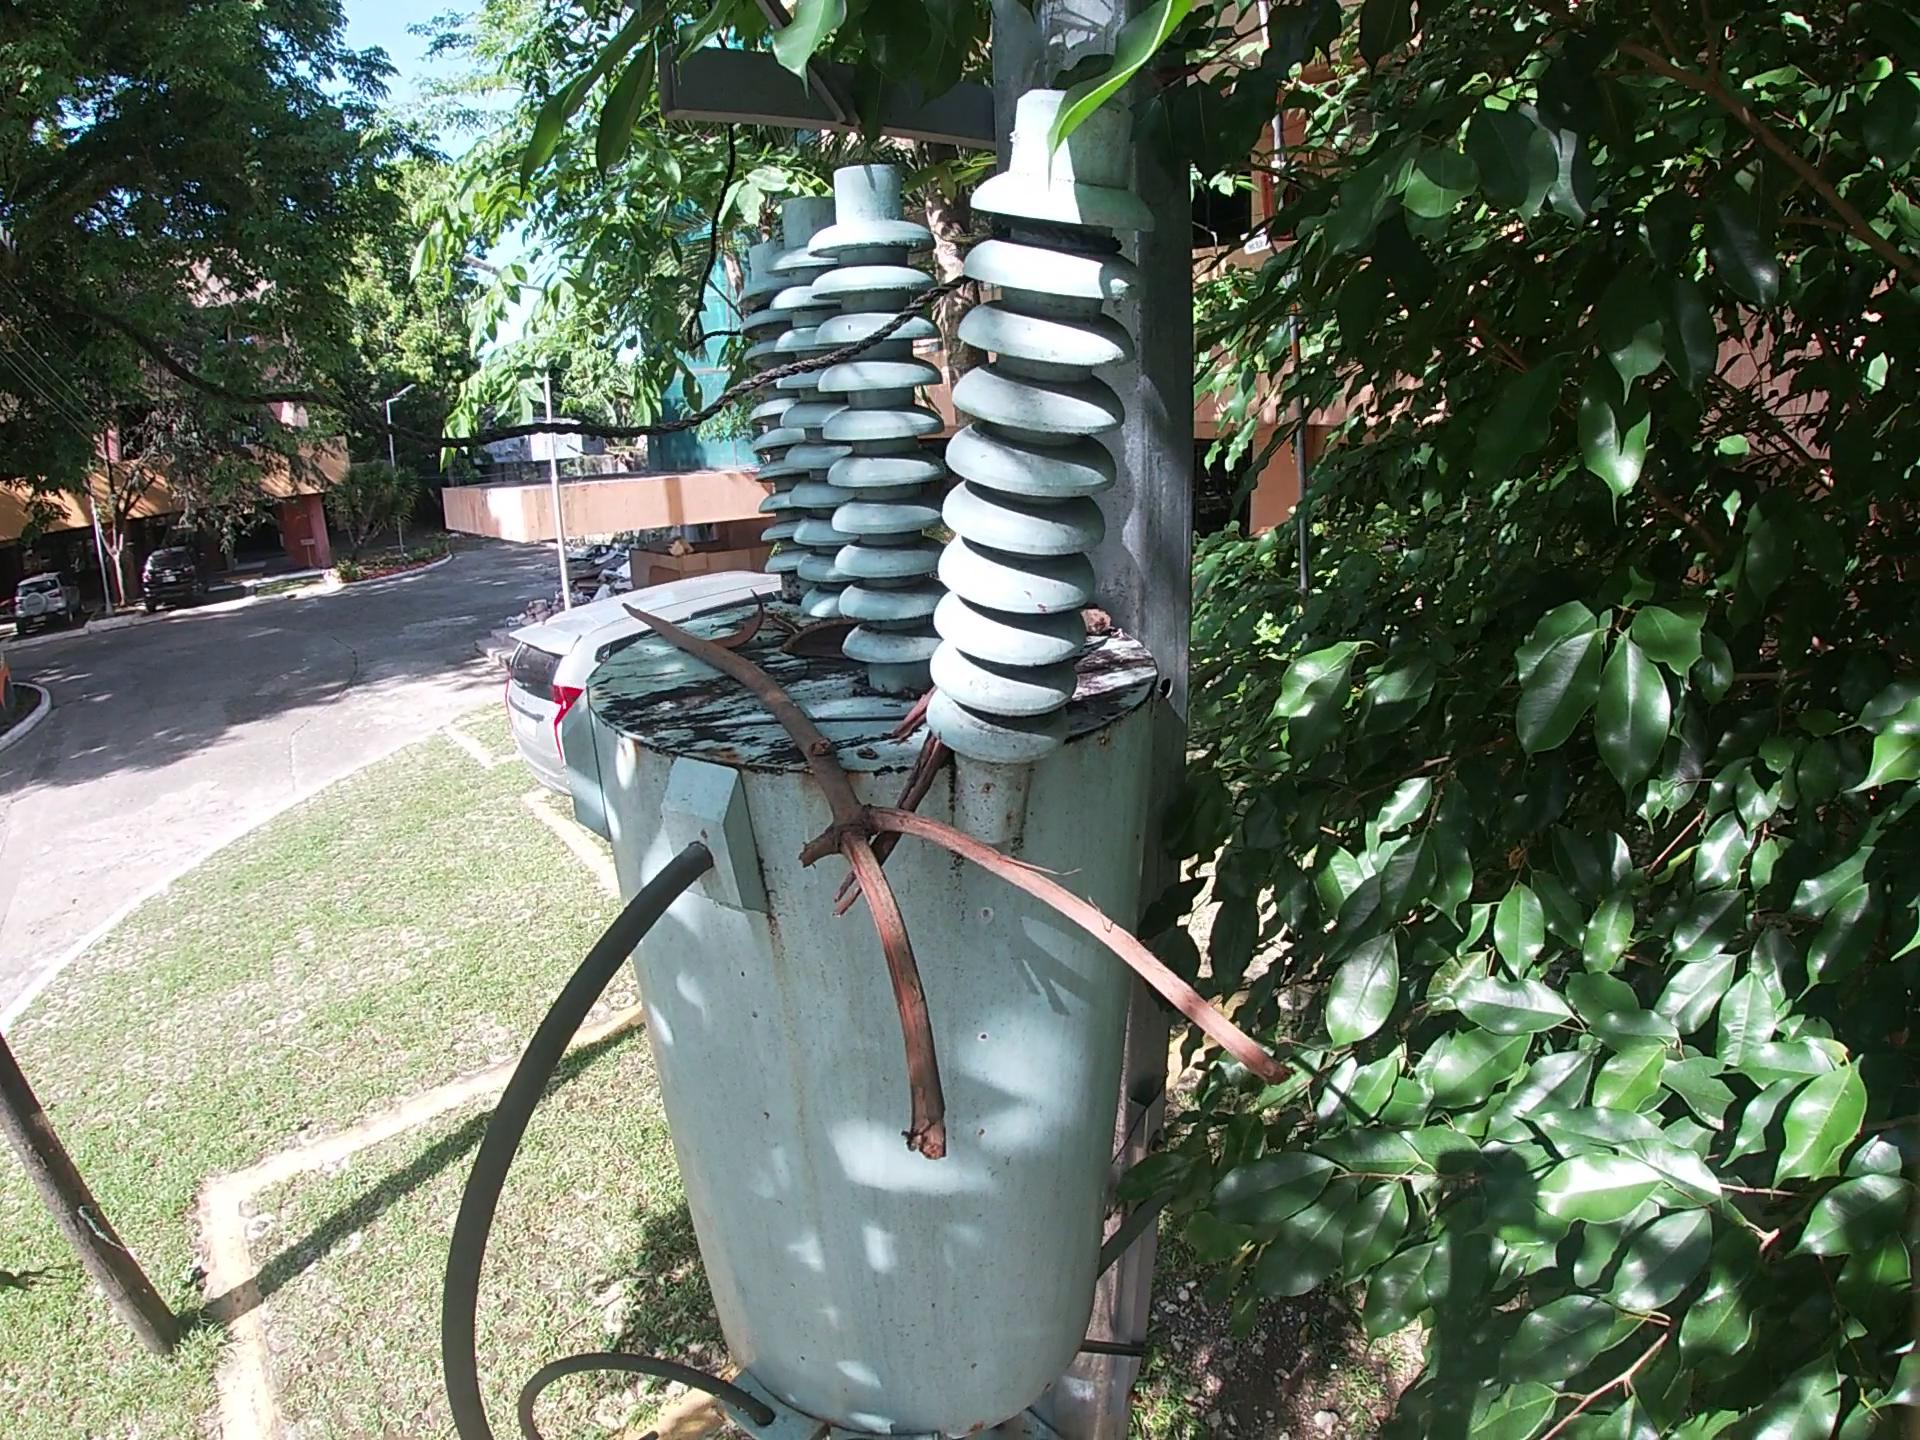mahogany fruit: (688, 591, 770, 646), (780, 622, 853, 672)
tree branch: (615, 597, 1342, 1184), (848, 738, 943, 898), (895, 690, 928, 753), (1079, 605, 1132, 637)
